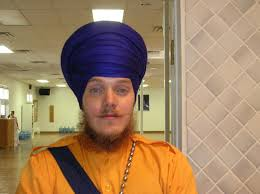helmet: (61, 19, 151, 144)
